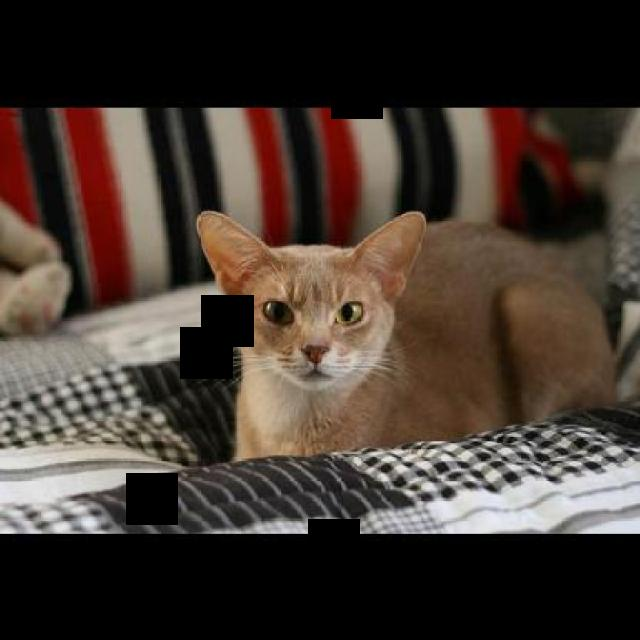unauthorized: (194, 206, 618, 462)
